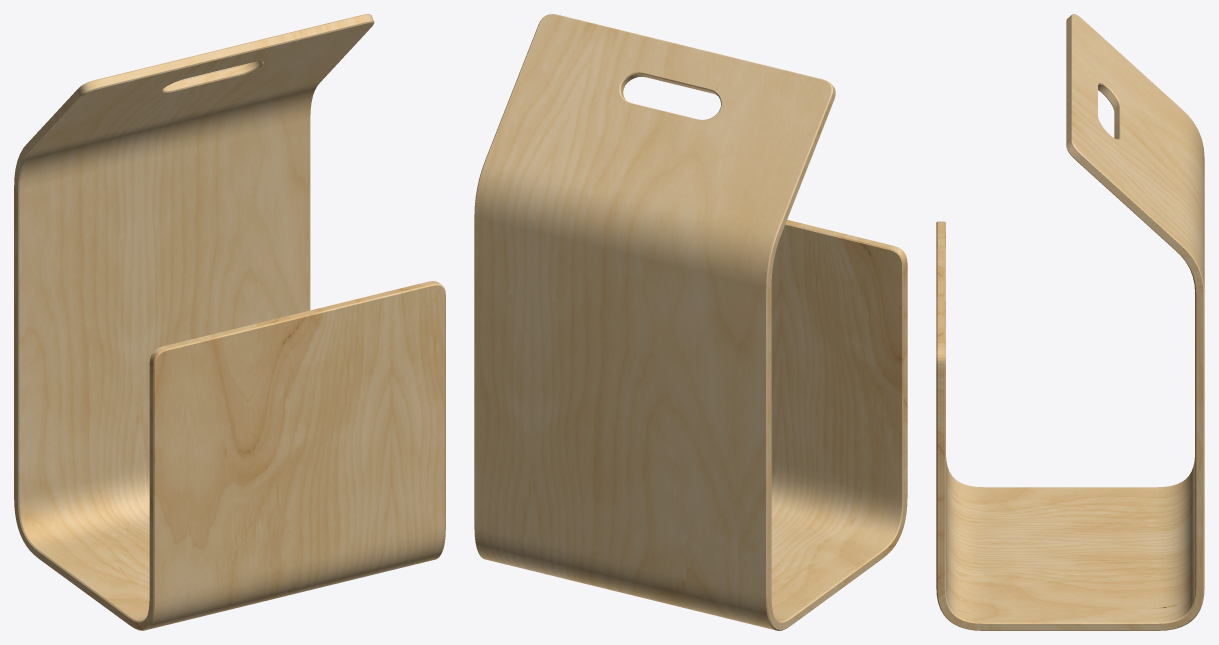
Rendered from Artek_Kanto_Rack_mat(1).fbx.
The picture shows the model from 3 angles, left to right: view 1: azimuth 30°, elevation 25°; view 2: azimuth 150°, elevation 25°; view 3: azimuth 270°, elevation 25°; orthographic projection. The views are drawn at different scales.
Parts seen in each view (by area): view 1: Artek_Kanto_Rack_mat1; view 2: Artek_Kanto_Rack_mat1; view 3: Artek_Kanto_Rack_mat1.
Part boxes in pixels (x1=…): Artek_Kanto_Rack_mat1: x1=14, y1=14, x2=445, y2=630; Artek_Kanto_Rack_mat1: x1=474, y1=14, x2=907, y2=630; Artek_Kanto_Rack_mat1: x1=936, y1=14, x2=1204, y2=630.
Size of the model in its own units: 34 by 28.3 by 56.5.
